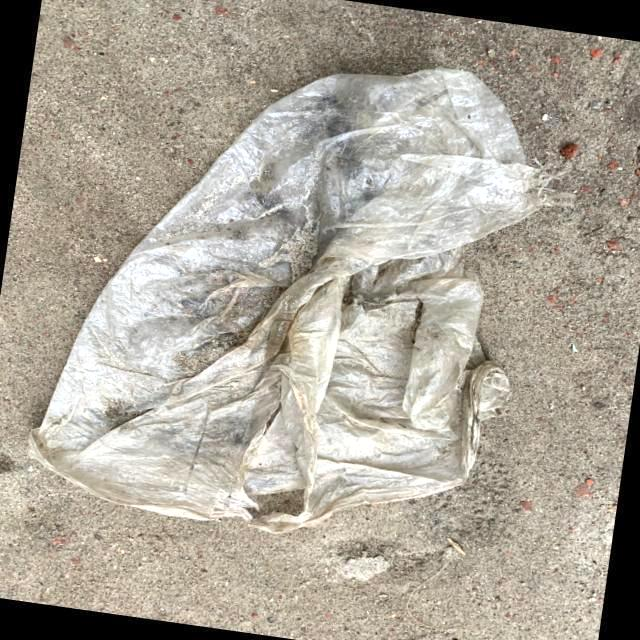polythene: (26, 21, 575, 563)
